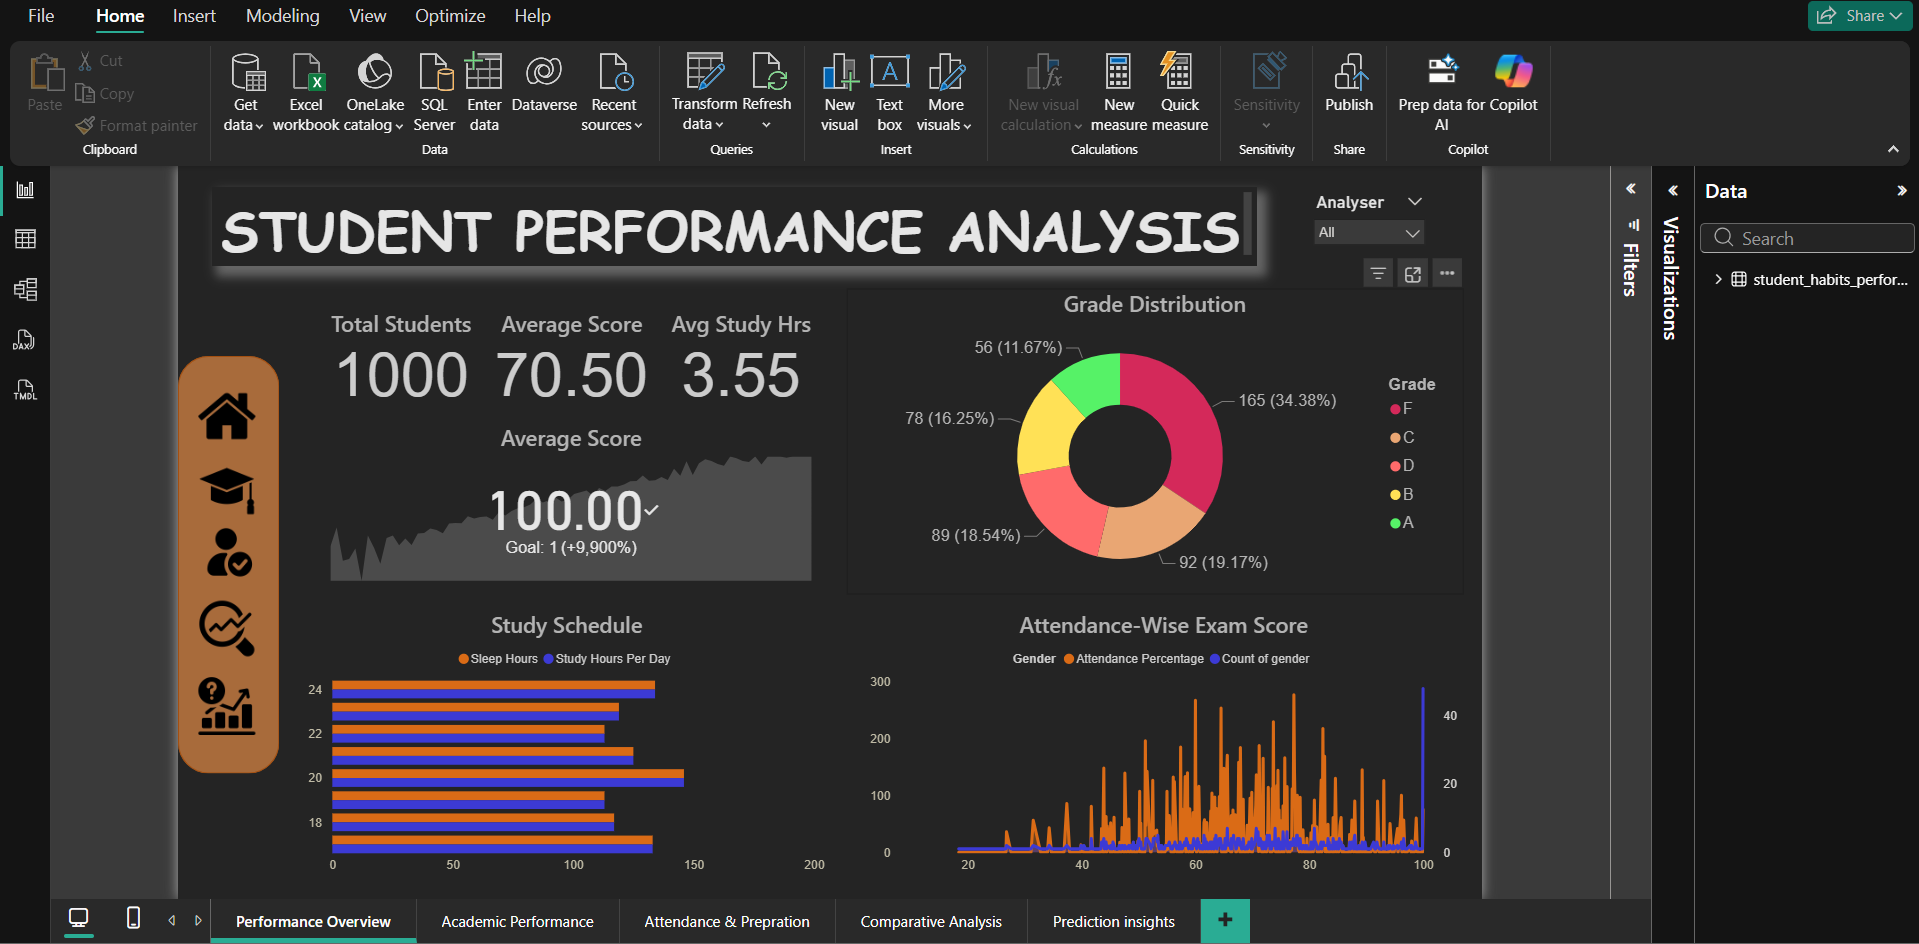

The page's visual inventory and layout, read from the dashboard file:
{"tool":"powerbi","page":{"name":"Performance Overview","canvas":[1280,720],"ordinal":0},"visuals":[{"type":"shape","box":[0,186.5,99.4,409.8],"z":0},{"type":"textbox","box":[33.1,20.9,1025.8,77.3],"z":1000},{"type":"image","box":[0,212.3,95.7,66.3],"z":2000},{"type":"image","box":[0,285.9,95.7,66.3],"z":3000},{"type":"image","box":[3.7,346,95.7,66.3],"z":4000},{"type":"image","box":[0,420.9,95.7,66.3],"z":5000},{"type":"image","box":[0,496.9,95.7,66.3],"z":6000},{"type":"actionButton","box":[0,278.5,99.4,73.6],"z":7000},{"type":"actionButton","box":[0,346,99.4,66.3],"z":8000},{"type":"actionButton","box":[0,420.9,99.4,66.3],"z":9000},{"type":"actionButton","box":[0,496.9,99.4,66.3],"z":10000},{"type":"kpi","title":"Average Score","fields":{"Indicator":["Avg(student_habits_performance.exam_score)"],"TrendLine":["student_habits_performance.study_hours_per_day"],"Goal":["Count(student_habits_performance.gender)"]},"box":[144.8,251.5,482.2,160.7],"z":11000},{"type":"donutChart","title":"Grade Distribution","fields":{"Y":["Count(student_habits_performance.exam_score)"],"Category":["student_habits_performance.Grade"]},"box":[656.4,120.2,604.9,300.6],"z":12000},{"type":"areaChart","title":"Attendance-Wise Exam Score","fields":{"Category":["student_habits_performance.exam_score"],"Y":["Variance(student_habits_performance.attendance_percentage)"],"Y2":["CountNonNull(student_habits_performance.gender)"]},"box":[673.6,435.6,587.7,266.3],"z":13000},{"type":"clusteredBarChart","title":"Study Schedule","fields":{"Category":["student_habits_performance.age"],"Y":["CountNonNull(student_habits_performance.sleep_hours)","CountNonNull(student_habits_performance.study_hours_per_day)"]},"box":[122.7,435.6,517.8,266.3],"z":14000},{"type":"card","title":"Total Students","fields":{"Values":["Count(student_habits_performance.student_id)"]},"box":[144.8,139.9,148.5,92],"z":15000},{"type":"card","title":"Average Score","fields":{"Values":["Median(student_habits_performance.exam_score)"]},"box":[305.5,139.9,162,92],"z":16000},{"type":"card","title":"Avg Study Hrs","fields":{"Values":["Avg(student_habits_performance.study_hours_per_day)"]},"box":[478.5,139.9,148.5,92],"z":17000},{"type":"slicer","fields":{"Values":["student_habits_performance.age","student_habits_performance.gender"]},"box":[1104.3,20.9,130.1,77.3],"z":18000}]}

Visuals, with their boxes on the page's 1280x720 design canvas (x1, y1, x2, y2). These are canvas units, not pixel positions in the 1919x944 screenshot, which may show the page scaled, cropped or inside an application window:
shape: locate(0, 186, 99, 596)
textbox: locate(33, 21, 1059, 98)
image: locate(0, 212, 96, 279)
image: locate(0, 286, 96, 352)
image: locate(4, 346, 99, 412)
image: locate(0, 421, 96, 487)
image: locate(0, 497, 96, 563)
actionButton: locate(0, 278, 99, 352)
actionButton: locate(0, 346, 99, 412)
actionButton: locate(0, 421, 99, 487)
actionButton: locate(0, 497, 99, 563)
"Average Score" kpi: locate(145, 252, 627, 412)
"Grade Distribution" donutChart: locate(656, 120, 1261, 421)
"Attendance-Wise Exam Score" areaChart: locate(674, 436, 1261, 702)
"Study Schedule" clusteredBarChart: locate(123, 436, 640, 702)
"Total Students" card: locate(145, 140, 293, 232)
"Average Score" card: locate(306, 140, 468, 232)
"Avg Study Hrs" card: locate(478, 140, 627, 232)
slicer - student_habits_performance.age x student_habits_performance.gender: locate(1104, 21, 1234, 98)
